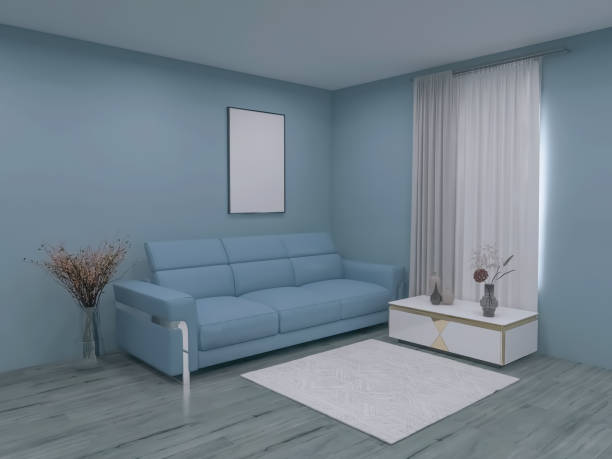flower vase: (28, 235, 125, 372), (468, 239, 518, 318)
sofa: (112, 229, 409, 390)
wall art: (224, 103, 288, 218)
